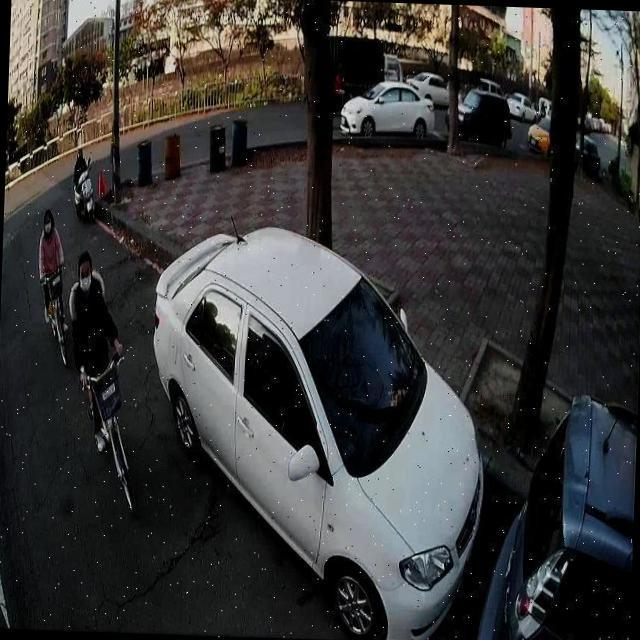person: (63, 244, 131, 452), (34, 203, 74, 339), (70, 143, 92, 189)
